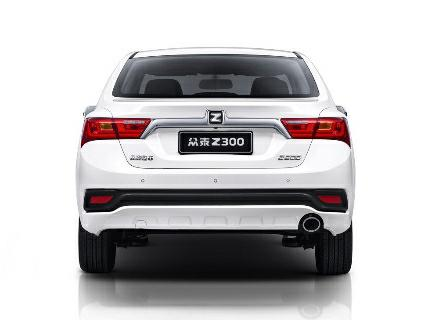众泰-Z300: (69, 43, 358, 284)
